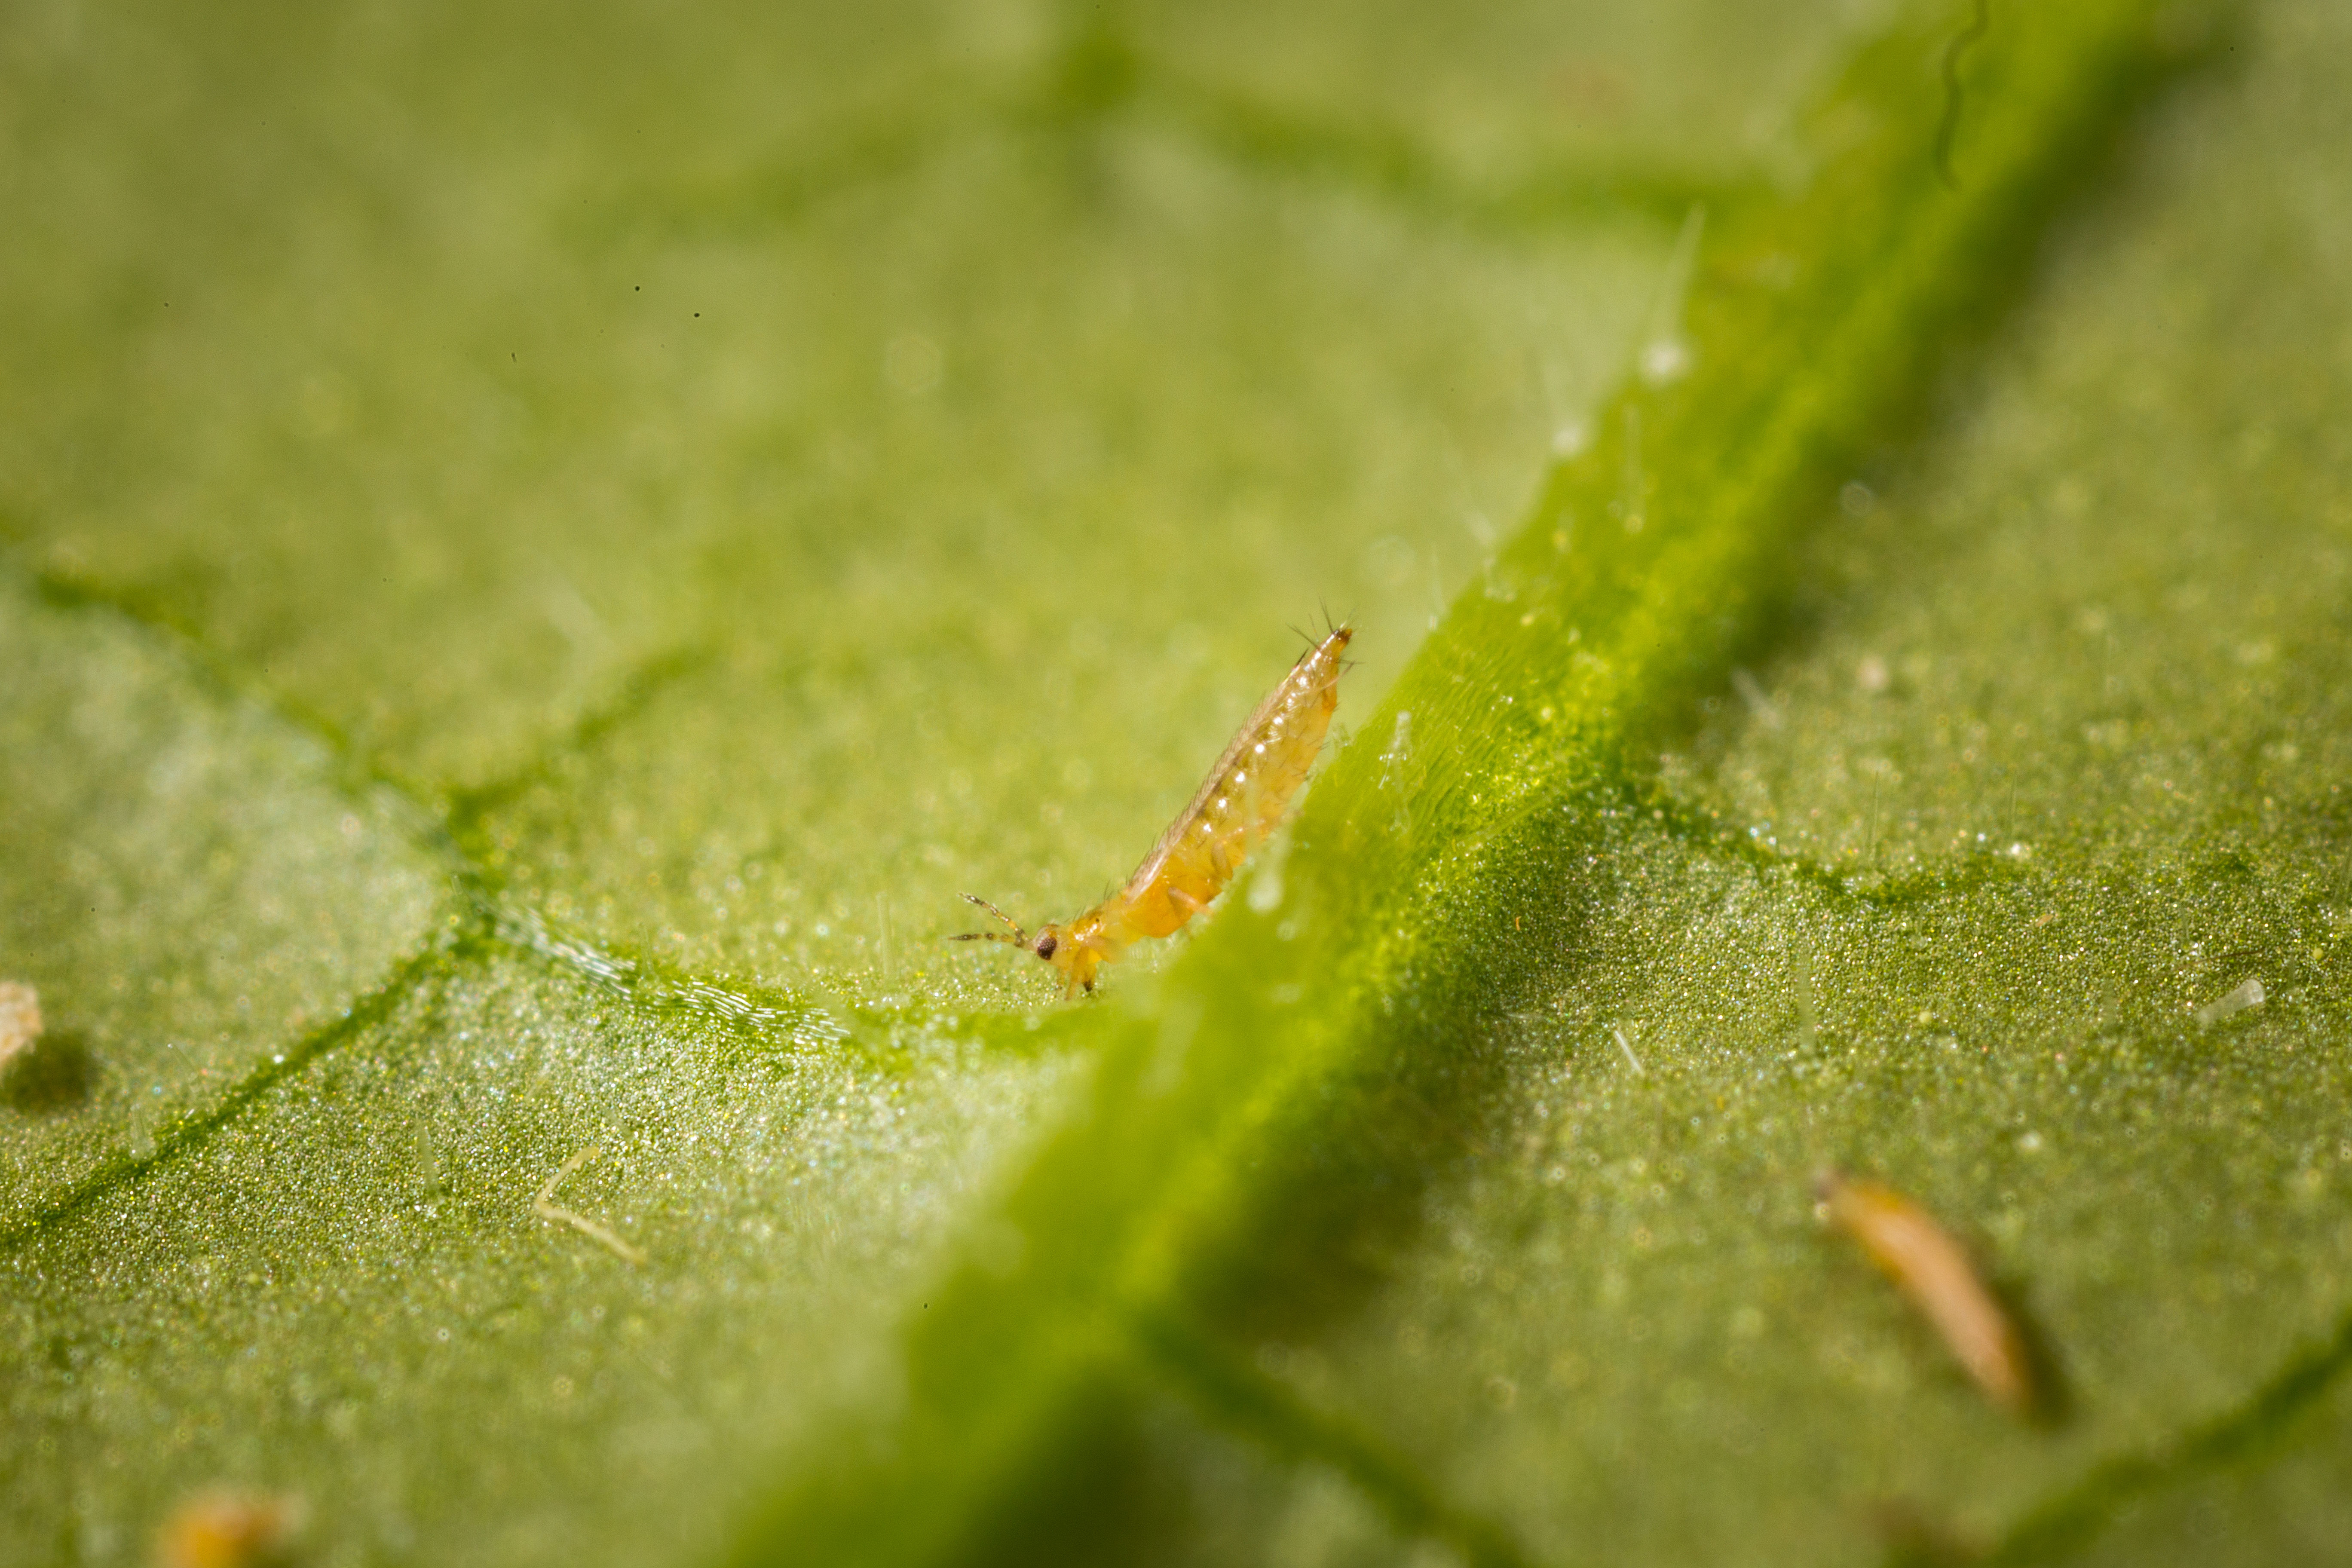Thrips: (972, 612, 1361, 1012)
